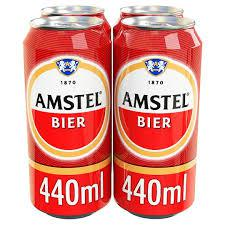beer: (24, 6, 199, 220)
